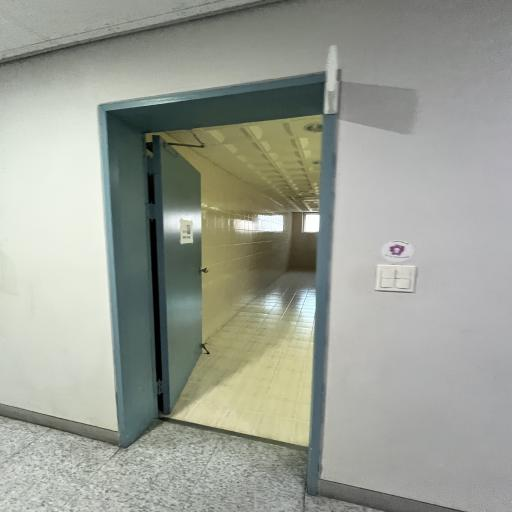door: (98, 71, 337, 498)
